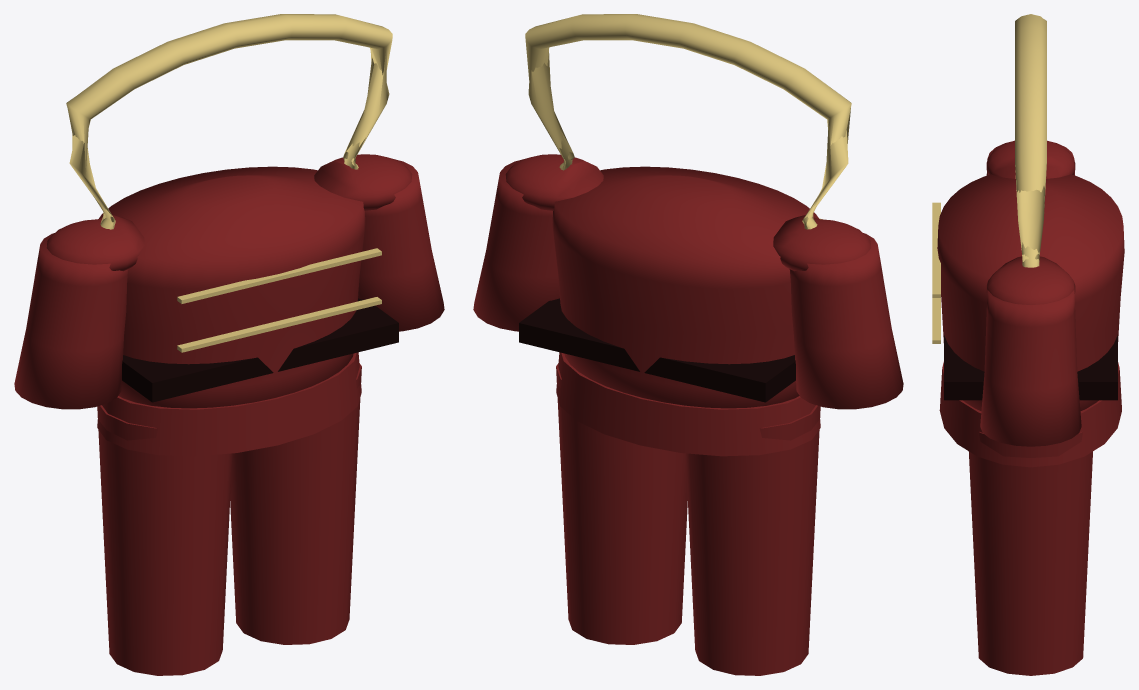
File: suit_ancient_2.glb
3 views of the same model, side by side, from view 1: azimuth 30°, elevation 25°; view 2: azimuth 150°, elevation 25°; view 3: azimuth 270°, elevation 25° (orthographic). The views are drawn at different scales.
Size of the model in its own units: 0.6992 by 0.9817 by 0.297.
